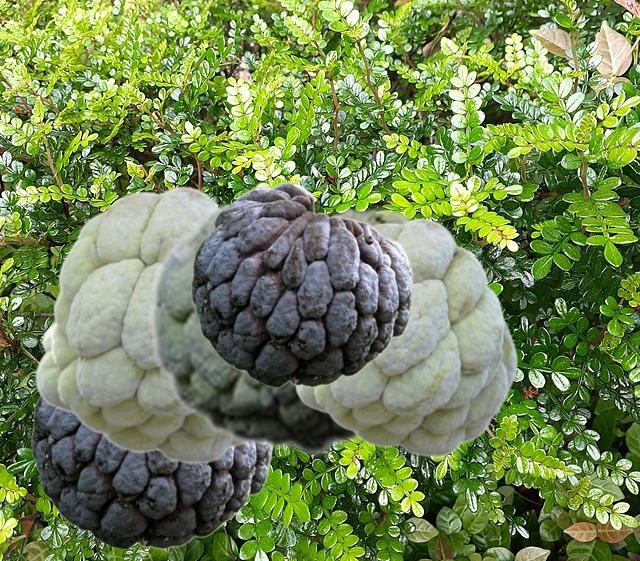atis: (148, 198, 423, 456), (34, 185, 242, 463), (294, 217, 517, 456), (191, 181, 413, 386), (31, 395, 272, 548)
